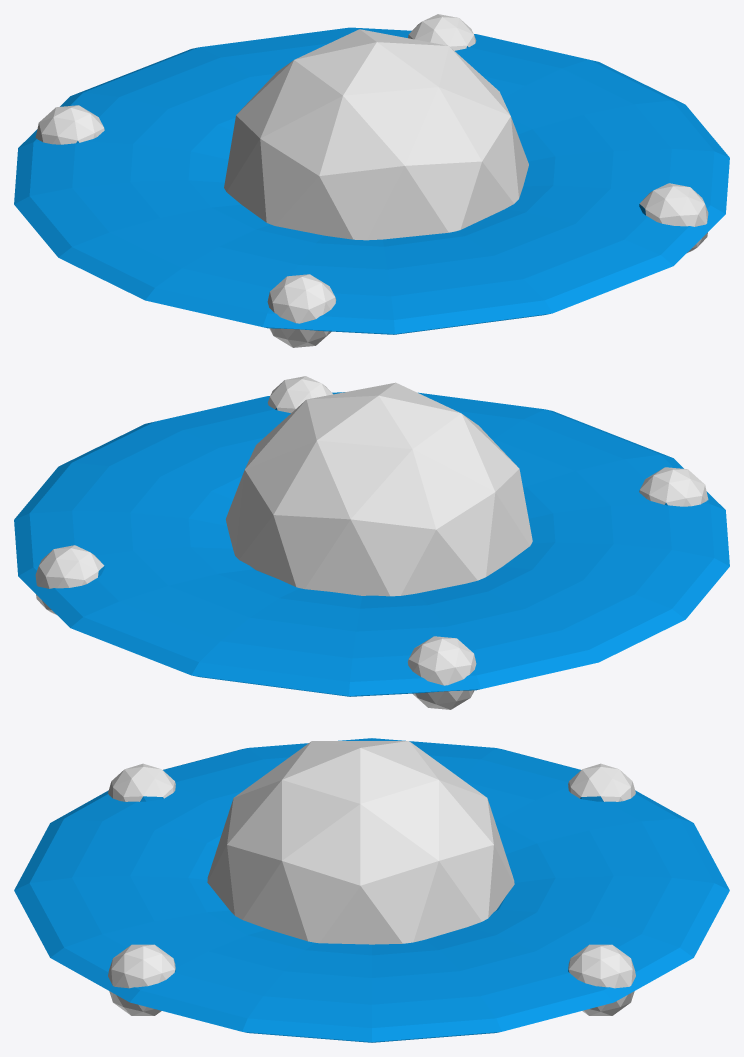
File: ufo.fbx
The picture shows the model from 3 angles, top to bottom: view 1: azimuth 30°, elevation 25°; view 2: azimuth 150°, elevation 25°; view 3: azimuth 270°, elevation 25°; orthographic projection.
Parts seen in each view (by area): view 1: Torus.001, Icosphere; view 2: Torus.001, Icosphere; view 3: Torus.001, Icosphere.
Part boxes in pixels (x1,y1,x2,y2): Torus.001: [14, 14, 729, 347]; Icosphere: [224, 29, 528, 240]; Torus.001: [14, 376, 729, 709]; Icosphere: [225, 382, 532, 596]; Torus.001: [14, 738, 729, 1042]; Icosphere: [207, 741, 514, 944].
Bounding box in the file's own units: 755 × 204 × 753.
